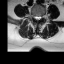CCS_severe_stenosis: (37, 13, 39, 22)
LFS_normal: (41, 13, 43, 20)
LLS_normal: (39, 13, 41, 20)
RFS_normal: (33, 13, 35, 20)
RLS_normal: (35, 13, 37, 21)
